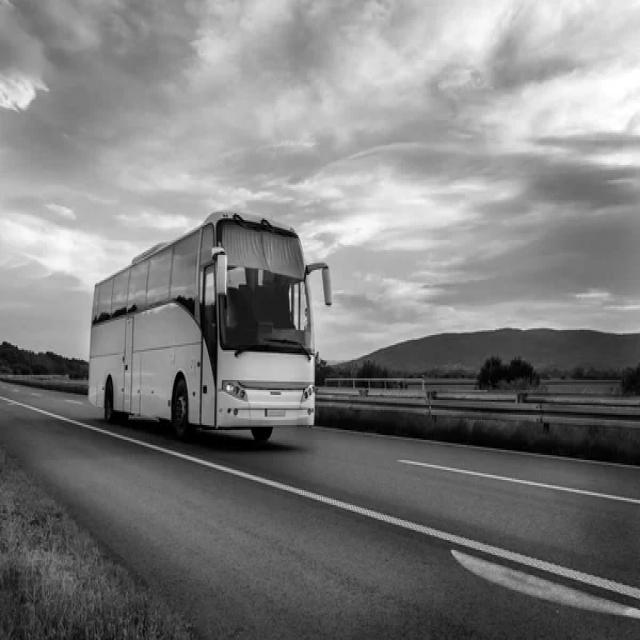Bus: (88, 212, 332, 440)
